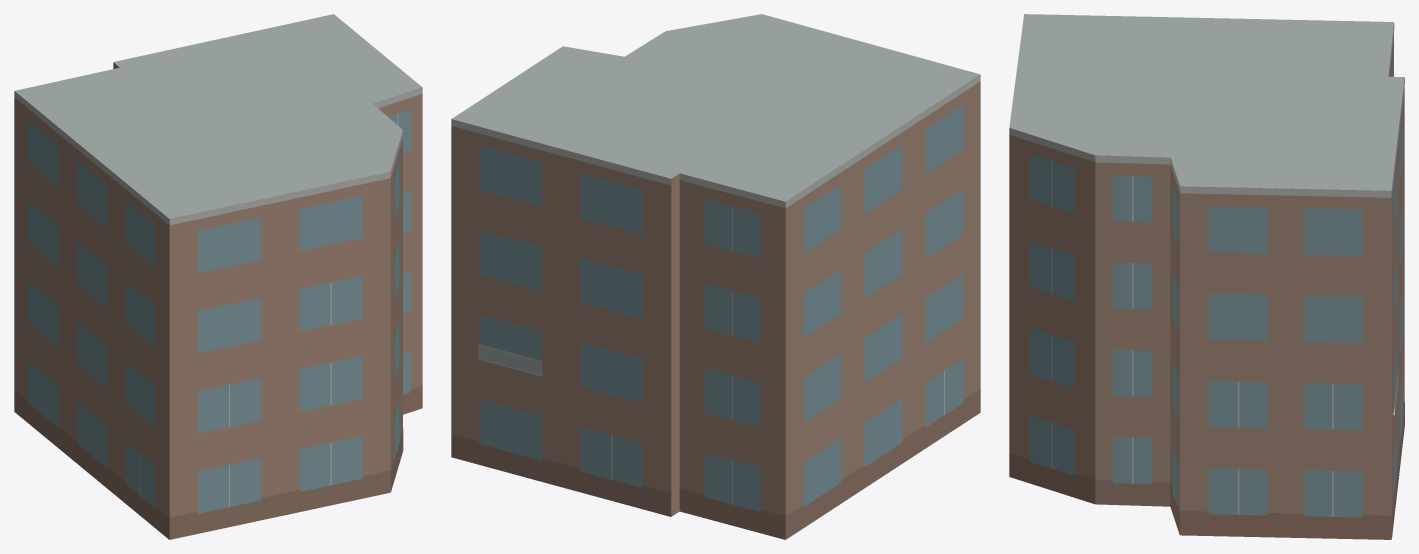
Rendered from survey-upis-32813433.glb.
3 renders of one model, left to right at view 1: azimuth 30°, elevation 25°; view 2: azimuth 150°, elevation 25°; view 3: azimuth 270°, elevation 25°, orthographic. The views are drawn at different scales.
Visible parts, largest first — view 1: survey-upis-32813433.tmp; view 2: survey-upis-32813433.tmp; view 3: survey-upis-32813433.tmp.
Part boxes in pixels (x1,y1,x2,y2): survey-upis-32813433.tmp: (14,14,422,539); survey-upis-32813433.tmp: (451,14,980,539); survey-upis-32813433.tmp: (1009,14,1404,539).
Size of the model in its own units: 13.27 by 12.2 by 12.54.
